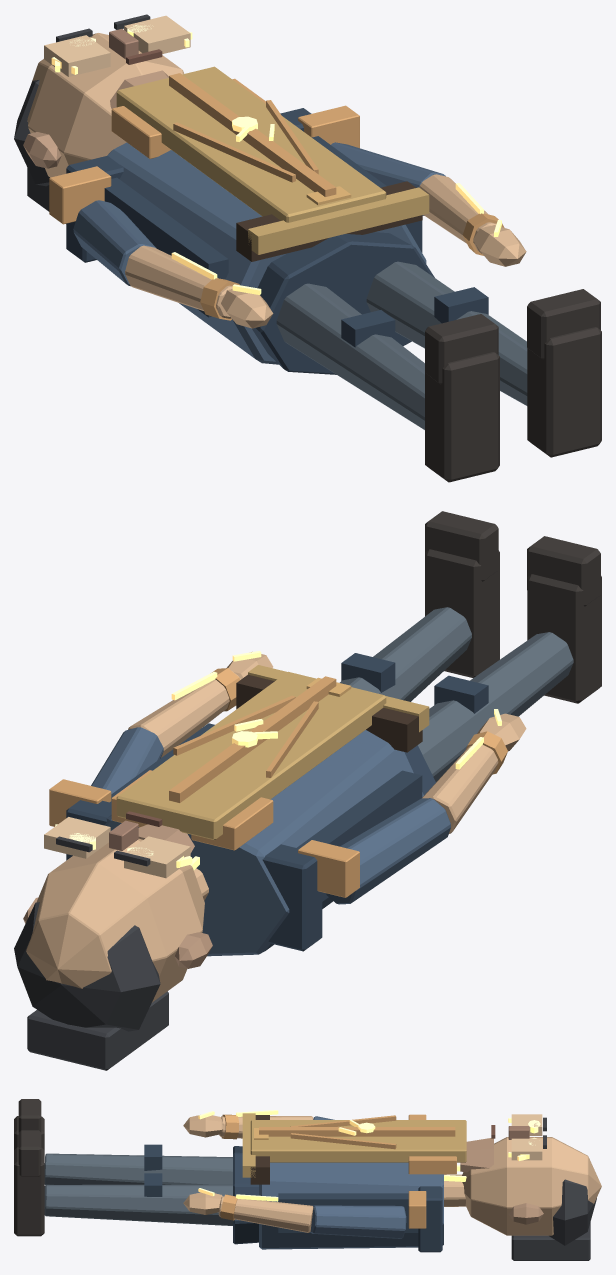
The model's file is IskryaninMale.fbx.
The picture shows the model from 3 angles, top to bottom: view 1: azimuth 30°, elevation 25°; view 2: azimuth 150°, elevation 25°; view 3: azimuth 270°, elevation 25°; orthographic projection. The views are drawn at different scales.
Visible parts, largest first — view 1: LongVest_FrontPanel, Body, Leg_Left, Pelvis, Boot_Left, Boot_Right, Head, Leg_Right, Jacket_Hem_Ochre, Jacket_LeftSidePanel, Arm_Upper_Left, Arm_Forearm_Left (+23 smaller); view 2: Head, Body, LongVest_FrontPanel, Hair_Cap, Leg_Left, Boot_Left, Boot_Right, Arm_Upper_Left, Leg_Right, Shoulder_Line, Hair_BackSweep, Jacket_LeftSidePanel (+20 smaller); view 3: Head, Body, LongVest_FrontPanel, Leg_Right, Leg_Left, Arm_Upper_Right, Boot_Right, Arm_Forearm_Right, Hair_BackSweep, Hair_Cap, Jacket_RightSidePanel, LongVest_CenterSeam (+24 smaller).
Part boxes in pixels (x1,y1,x2,y2): LongVest_FrontPanel: (116,66,386,222); Body: (107,142,426,364); Leg_Left: (276,283,424,429); Pelvis: (252,232,434,374); Boot_Left: (425,352,499,482); Boot_Right: (527,327,601,457); Head: (27,33,184,177); Leg_Right: (366,261,527,405); Jacket_Hem_Ochre: (248,187,429,254); Jacket_LeftSidePanel: (104,177,228,317); Arm_Upper_Left: (73,200,156,286); Arm_Forearm_Left: (125,245,232,318); Head: (26,838,204,1002); Body: (104,730,423,956); LongVest_FrontPanel: (116,671,386,840); Hair_Cap: (14,902,160,1031); Leg_Left: (418,632,573,782); Boot_Left: (527,574,601,703); Boot_Right: (425,549,499,677); Arm_Upper_Left: (326,798,450,904); Leg_Right: (339,607,471,701); Shoulder_Line: (66,800,322,951); Hair_BackSweep: (27,991,168,1070); Jacket_LeftSidePanel: (297,770,422,901); Head: (462,1137,601,1235); Body: (259,1162,443,1249); LongVest_FrontPanel: (250,1120,466,1162); Leg_Right: (44,1184,232,1225); Leg_Left: (44,1153,232,1184); Arm_Upper_Right: (310,1205,406,1238); Boot_Right: (14,1147,44,1236); Arm_Forearm_Right: (218,1196,313,1232); Hair_BackSweep: (511,1222,590,1260); Hair_Cap: (549,1179,596,1245); Jacket_RightSidePanel: (278,1193,418,1232); LongVest_CenterSeam: (259,1127,455,1136).
Size of the model in its own units: 74.71 by 43.25 by 183.
